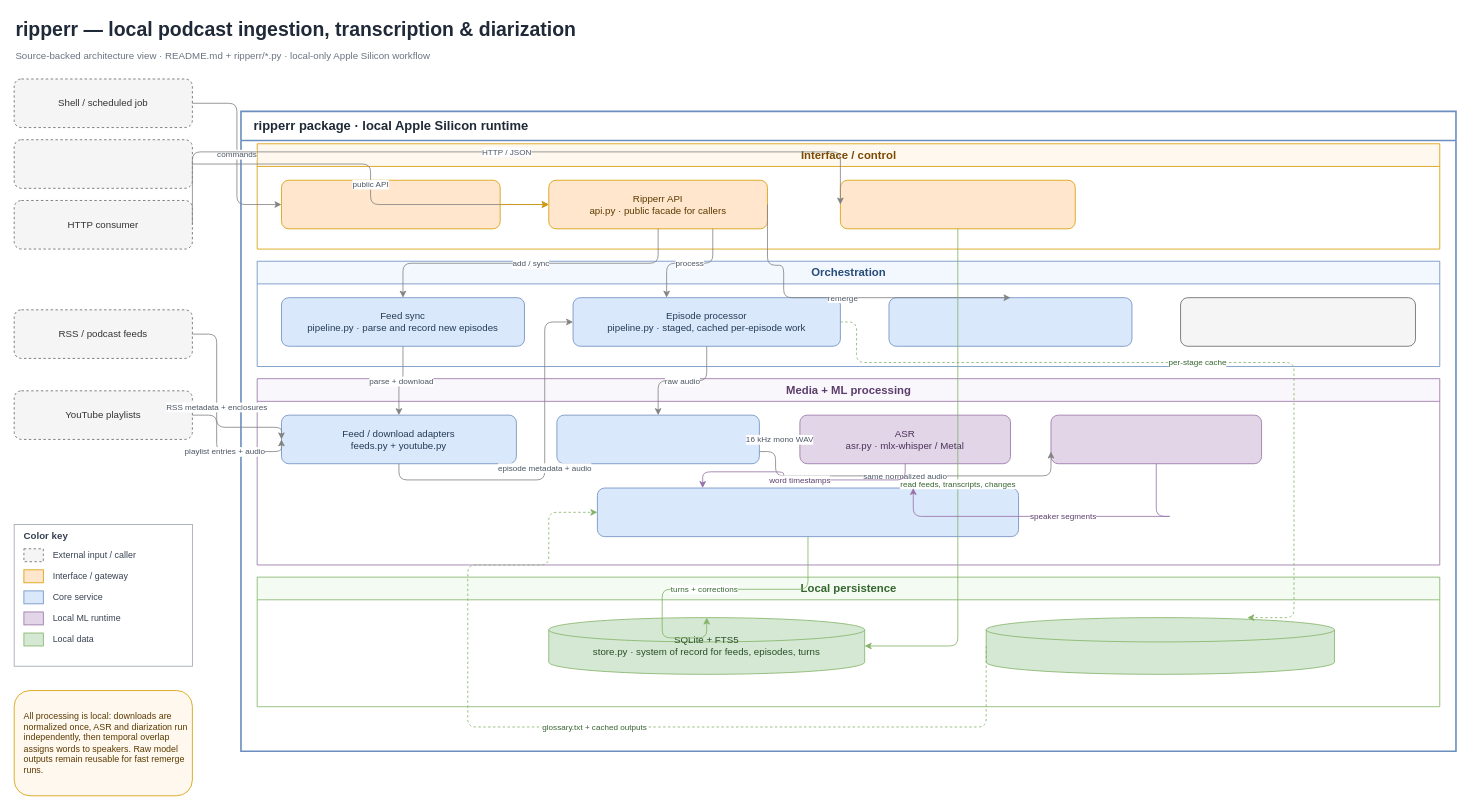
Image size: 1471x810. Some labels were removed from this diagram. Here are the shapes that lost their labels. From the top down, the centre of each, then its label:
At pixel 102 163: "Python caller".
At pixel 390 204: "CLI entrypoint cli.py · add / sync / run / show / search / serve".
At pixel 957 204: "Local HTTP server server.py · feeds, episodes, changes".
At pixel 1010 321: "Remerge path pipeline.py · glossary + merge from raw cache".
At pixel 1297 321: "Config / environment config.py · root paths, model, thresholds".
At pixel 657 439: "Audio normalization audio.py · ffmpeg → 16 kHz mono WAV".
At pixel 1156 439: "Speaker diarization diarize.py · Senko / CoreML".
At pixel 808 512: "Glossary + temporal merge glossary.py + merge.py · words → speaker turns".
At pixel 1159 645: "File cache audio/ · raw/*.asr.json · raw/*.diar.json · glossary.txt".
